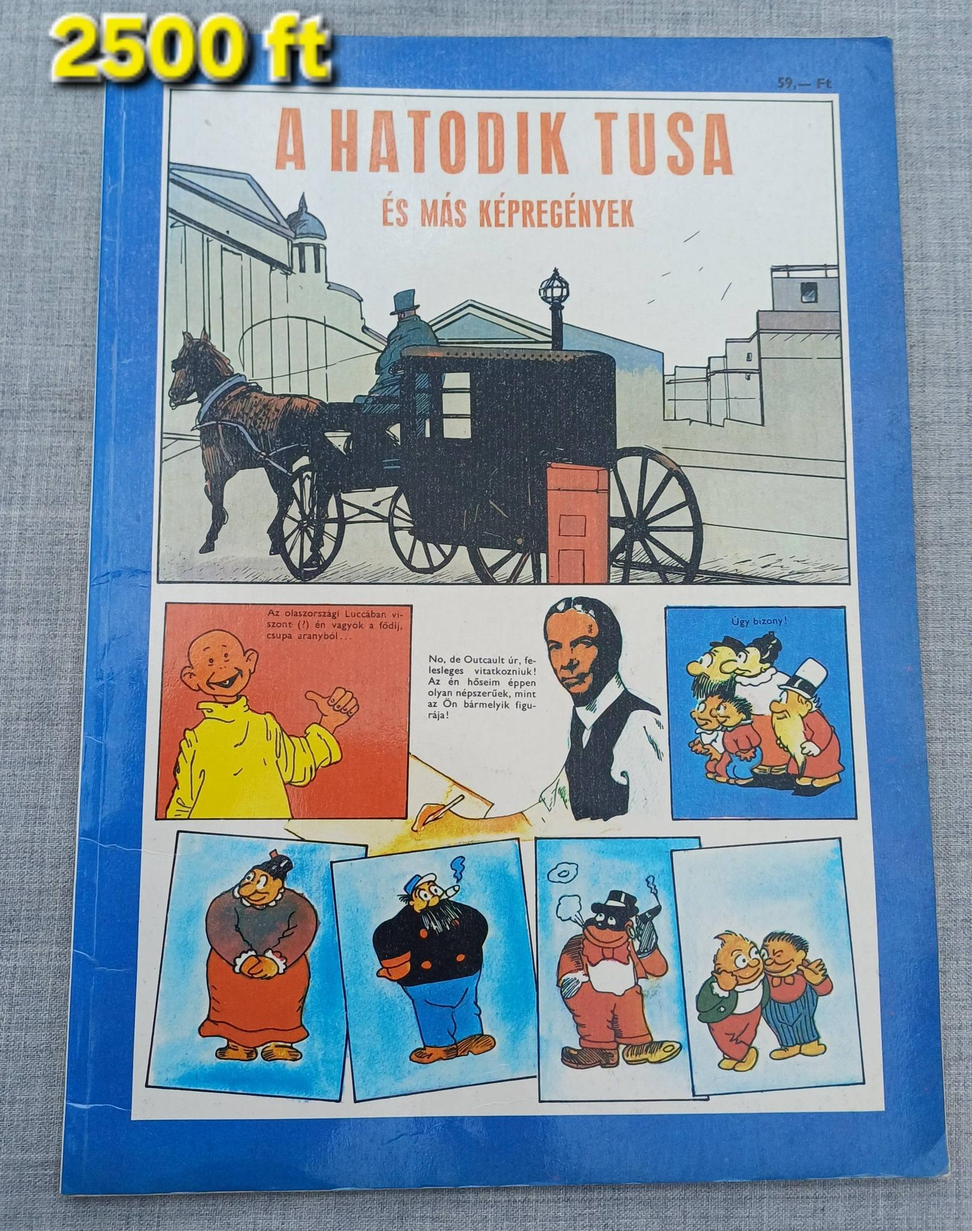comic: (38, 25, 946, 1194)
